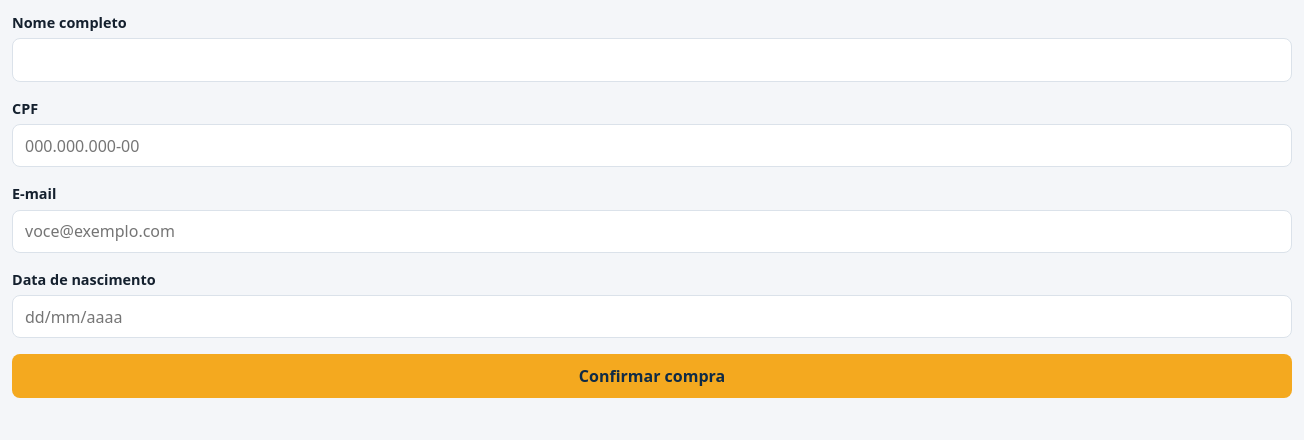
Scenario: PassengerForm › rejects a CPF with a wrong check digit (well-formed but invalid)
Type "Maria Silva" into the field labelled "Nome completo".
click(652, 60); type("Maria Silva")  # box [12,38,1292,82]
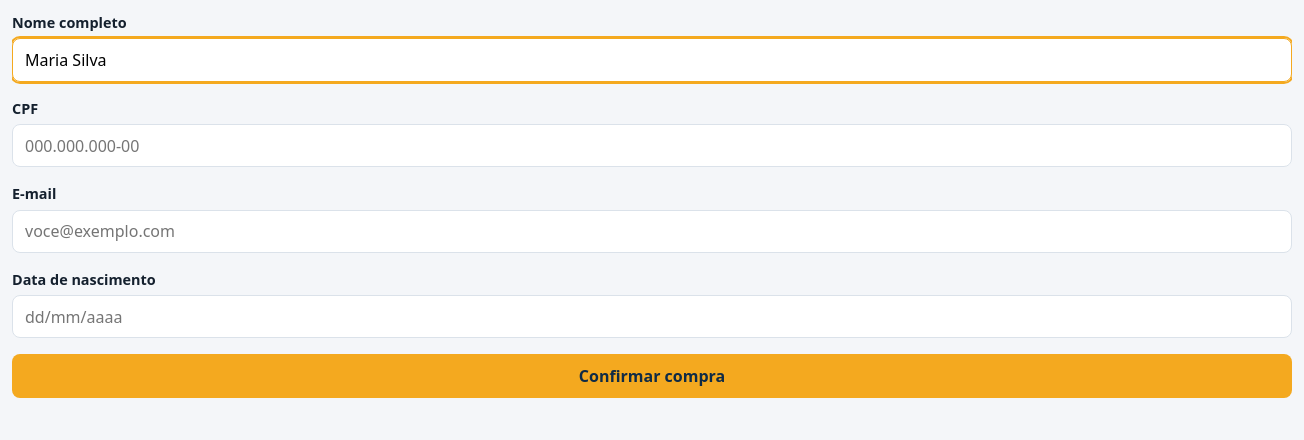
Type "529.982.247-24" into the field labelled "CPF".
click(652, 146); type("529.982.247-24")  # box [12,124,1292,167]
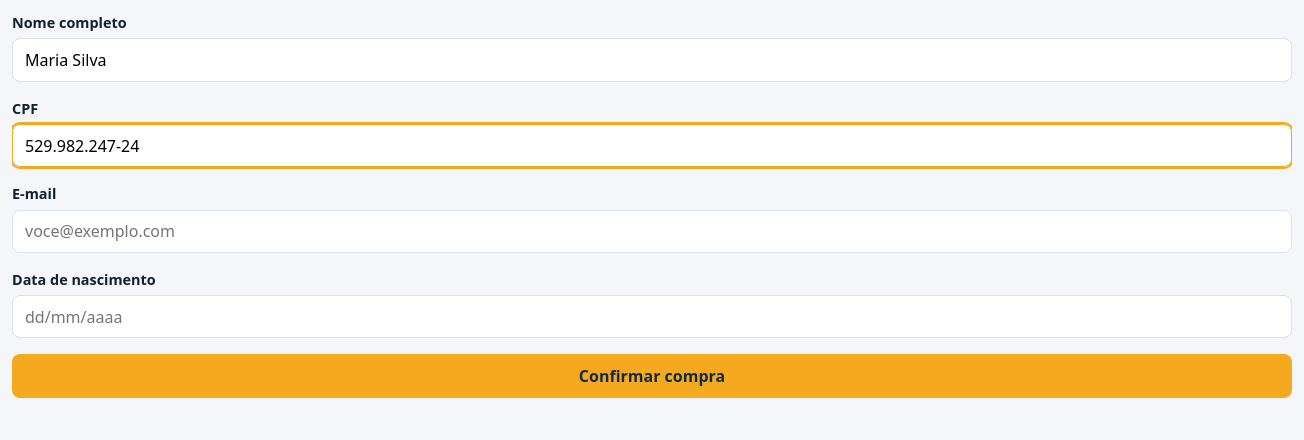
Type "maria@exemplo.com" into the field labelled "E-mail".
click(652, 231); type("maria@exemplo.com")  # box [12,210,1292,253]
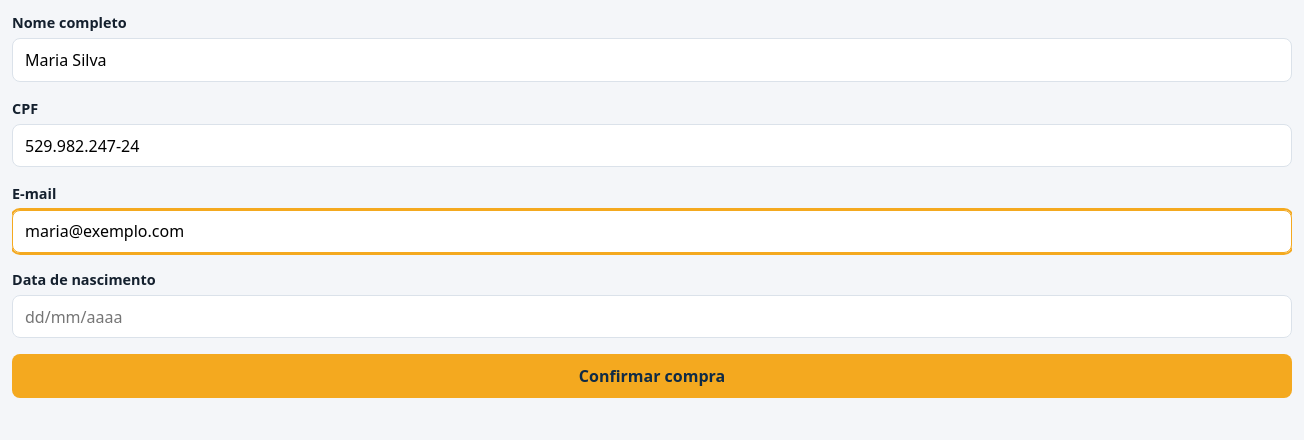
Type "20051990" into the field labelled "Data de nascimento".
click(652, 317); type("20051990")  # box [12,295,1292,338]
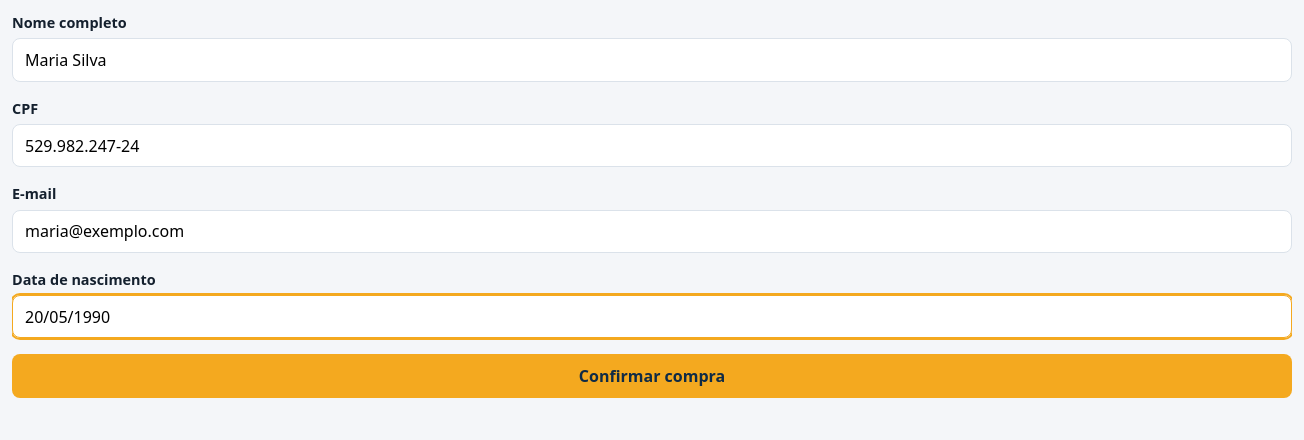
Click the button "Confirmar compra".
click(652, 376)  # box [12,354,1292,398]
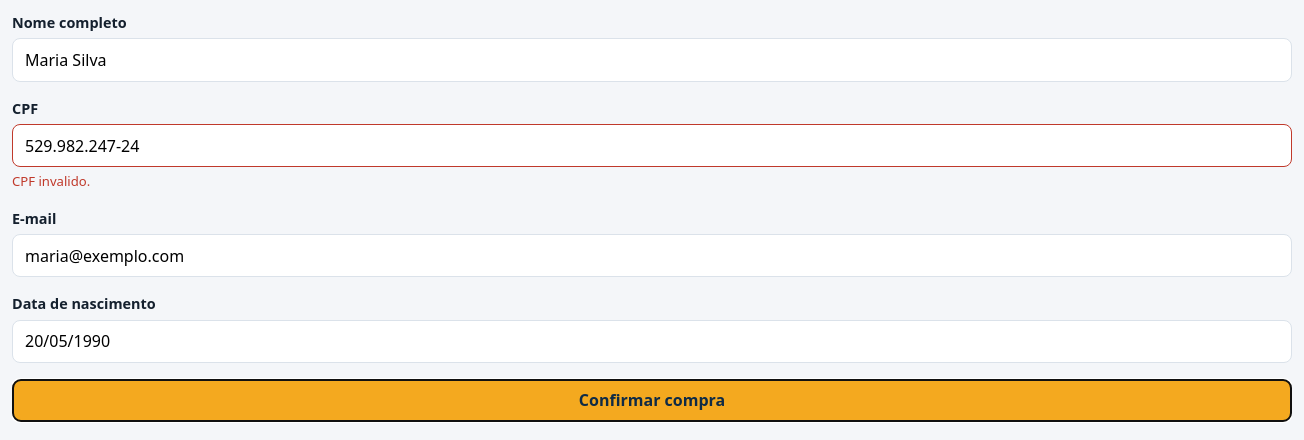
Result: the text "CPF invalido." is shown at [12,172,90,190]
